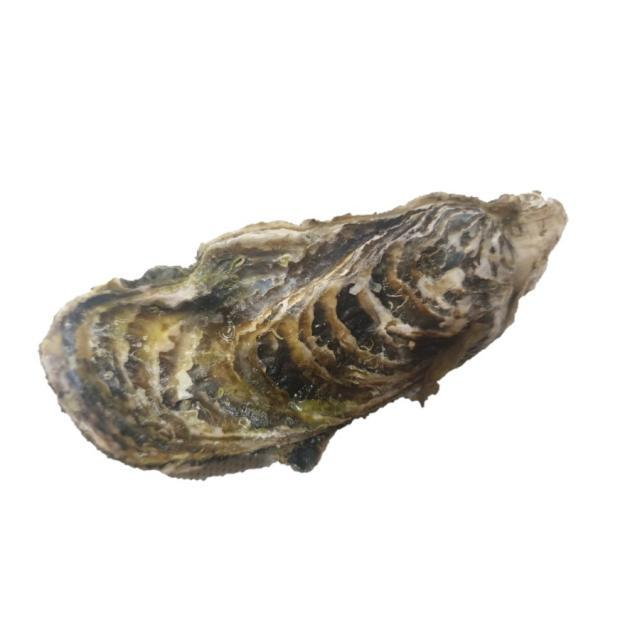Oyster- Indeterminate: (21, 184, 590, 495)
